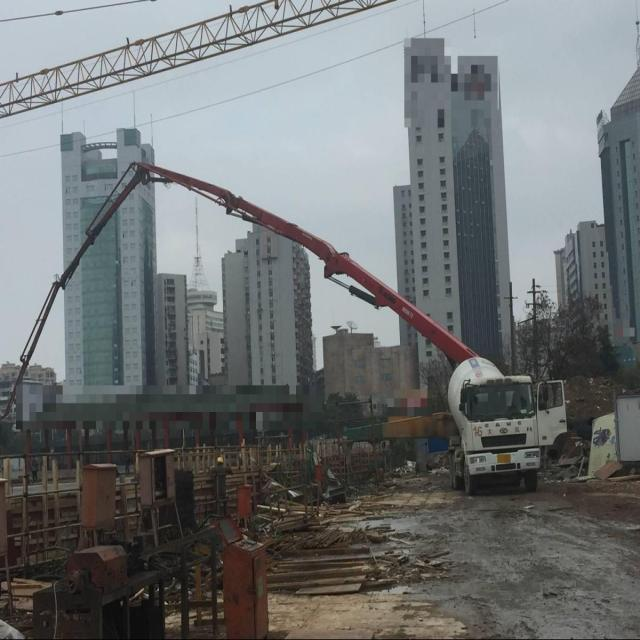crane: (0, 0, 405, 134)
truck: (0, 151, 579, 507)
